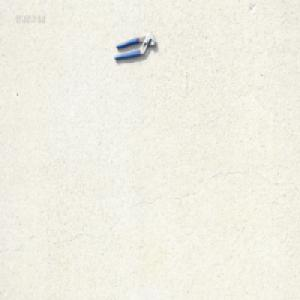Pliers: (113, 31, 157, 61)
